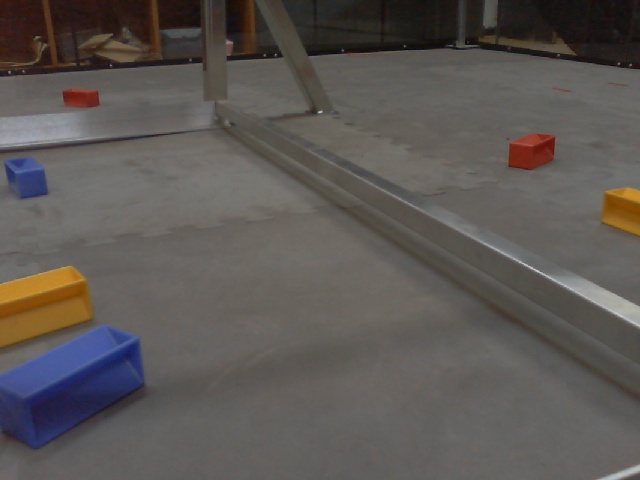BlueSample: (1, 325, 148, 450), (3, 155, 50, 200)
RedSample: (506, 131, 557, 171), (60, 86, 102, 109)
YellowSample: (1, 263, 94, 349), (599, 184, 640, 236)
